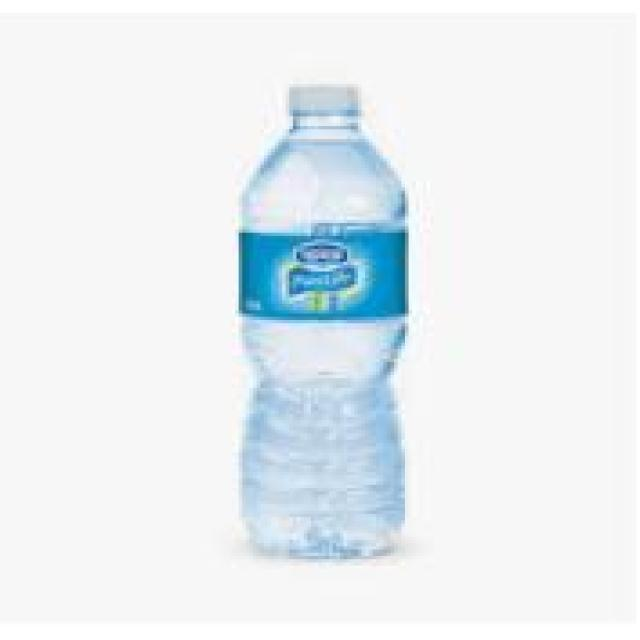bottle: (223, 76, 422, 567)
